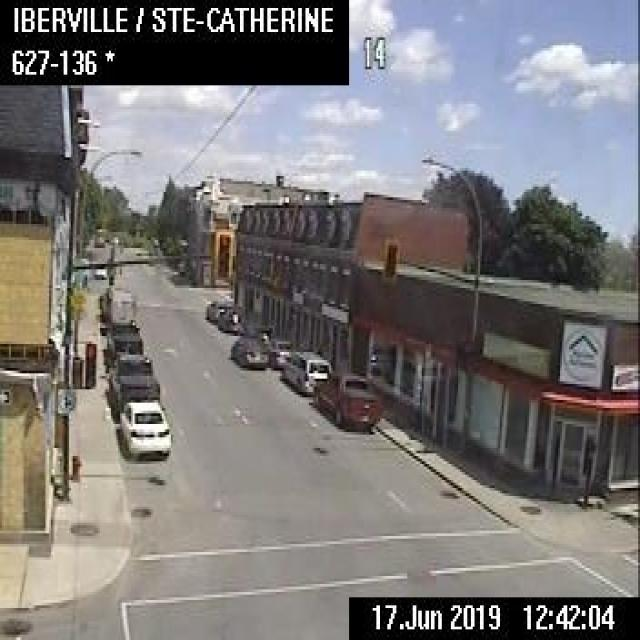vehicle: (312, 370, 378, 426), (107, 351, 159, 415), (118, 398, 170, 457), (282, 348, 331, 393), (105, 318, 142, 360), (100, 282, 134, 324), (229, 336, 268, 364), (268, 337, 295, 368), (242, 320, 274, 346), (216, 303, 244, 331), (205, 296, 232, 322), (93, 265, 106, 277)
